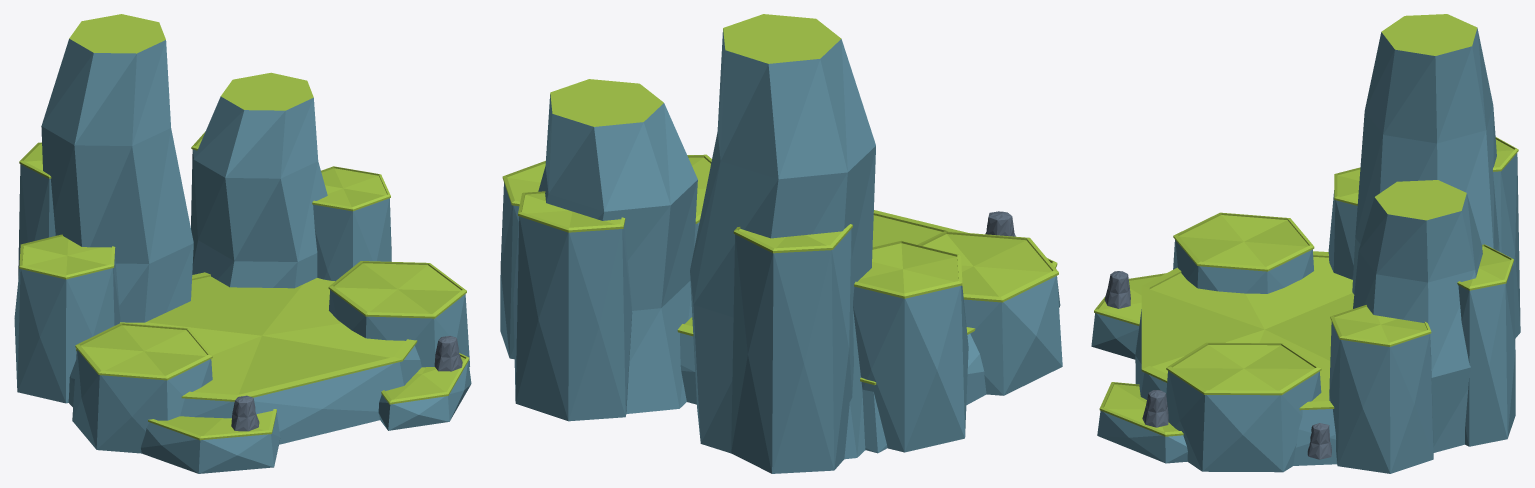
File: building.glb
3 renders of one model, left to right at view 1: azimuth 30°, elevation 25°; view 2: azimuth 150°, elevation 25°; view 3: azimuth 270°, elevation 25°, orthographic. The views are drawn at different scales.
Visible parts, largest first — view 1: 15_R3B_Falls_SteppedClosedCliffs; view 2: 15_R3B_Falls_SteppedClosedCliffs; view 3: 15_R3B_Falls_SteppedClosedCliffs.
Boxes of the visible parts, left/top/right/bottom form: 15_R3B_Falls_SteppedClosedCliffs: left=14, top=14, right=471, bottom=473; 15_R3B_Falls_SteppedClosedCliffs: left=500, top=14, right=1062, bottom=473; 15_R3B_Falls_SteppedClosedCliffs: left=1091, top=14, right=1520, bottom=473.
Bounding box in the file's own units: 1.5 × 1.2 × 1.47.
